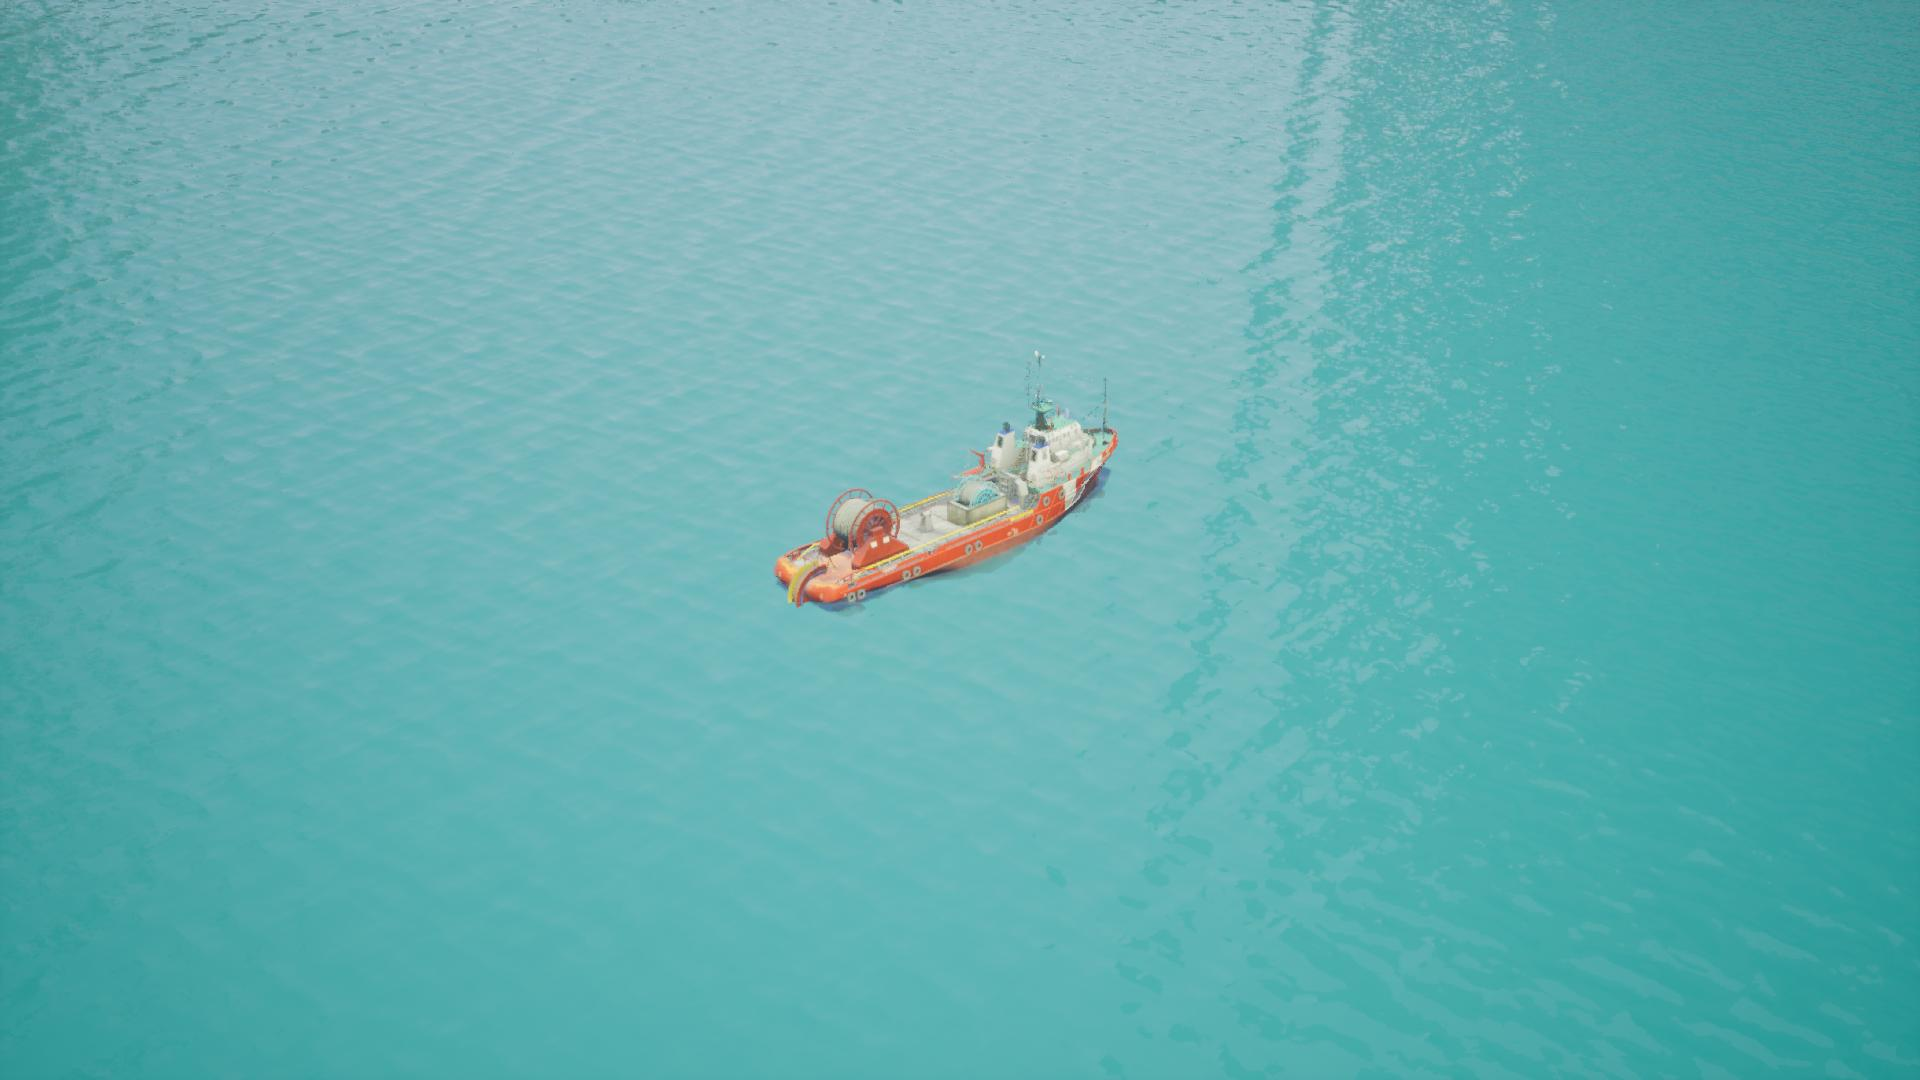Tug Boat: (728, 353, 1147, 684)
